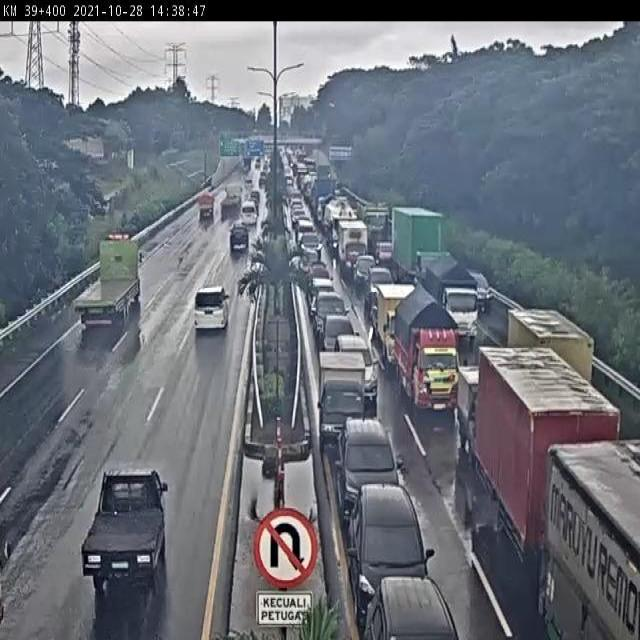big truck: (479, 345, 626, 595), (72, 233, 144, 329), (391, 205, 451, 298), (219, 180, 244, 216)
car: (349, 486, 436, 618), (335, 418, 399, 530), (363, 577, 460, 640), (335, 336, 380, 403), (319, 315, 360, 369), (312, 290, 350, 342), (194, 284, 231, 337), (367, 265, 395, 308), (309, 276, 334, 316), (355, 255, 376, 288), (229, 228, 253, 256)
small bus: (240, 199, 258, 228)
small truck: (82, 473, 173, 596), (505, 305, 588, 435), (393, 287, 462, 416), (458, 365, 521, 468), (317, 348, 369, 449), (424, 252, 482, 339), (377, 283, 420, 369), (339, 220, 369, 276), (197, 189, 216, 219)
